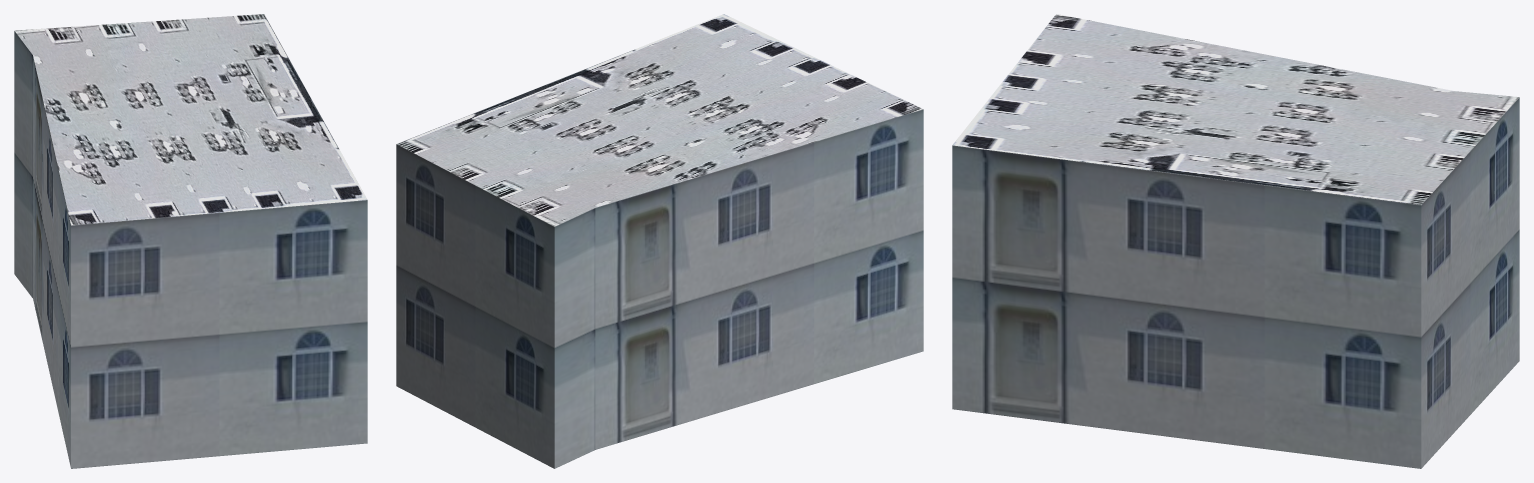
File: ResTex__3137.fbx
3 views of the same model, side by side, from view 1: azimuth 30°, elevation 25°; view 2: azimuth 150°, elevation 25°; view 3: azimuth 270°, elevation 25° (orthographic). The views are drawn at different scales.
Visible parts, largest first — view 1: CityEngineMaterial_17_m, CityEngineMaterial_m; view 2: CityEngineMaterial_17_m, CityEngineMaterial_m; view 3: CityEngineMaterial_17_m, CityEngineMaterial_m.
Boxes of the visible parts, <box> form: CityEngineMaterial_17_m: <box>14,31,367,468</box>; CityEngineMaterial_m: <box>14,14,367,225</box>; CityEngineMaterial_17_m: <box>396,109,923,468</box>; CityEngineMaterial_m: <box>396,14,922,226</box>; CityEngineMaterial_17_m: <box>952,97,1519,468</box>; CityEngineMaterial_m: <box>952,14,1519,204</box>.
Bounding box in the file's own units: 9.32 × 6 × 11.7.
2 materials, 2 textured.
